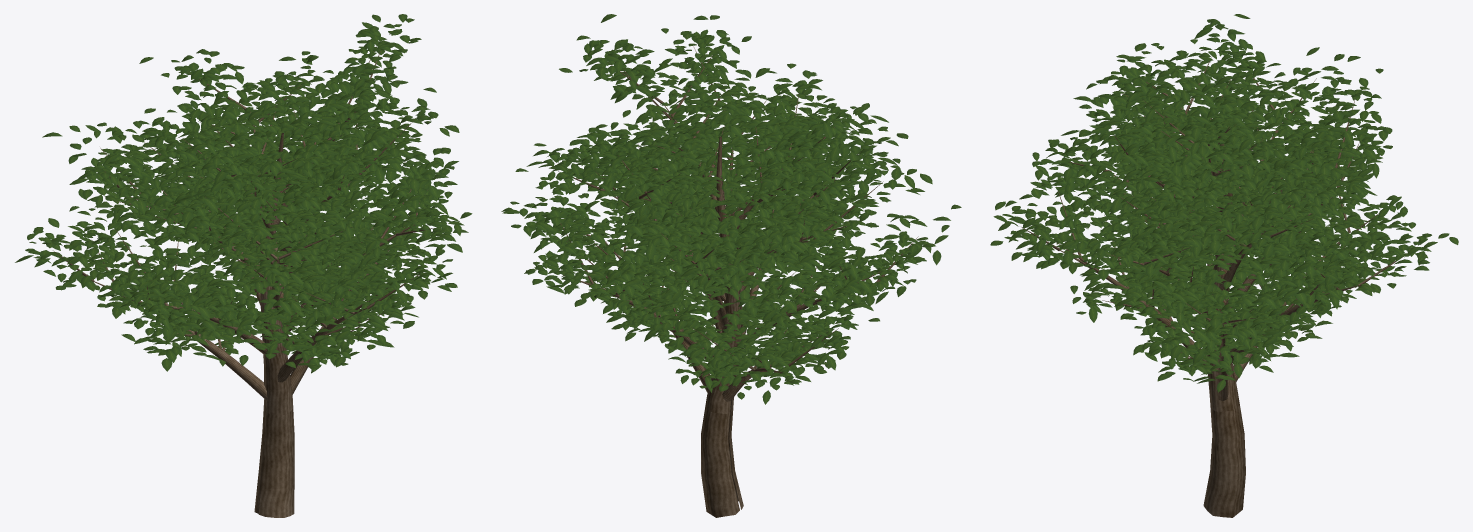
The model's file is garden-tree-1.glb.
The picture shows the model from 3 angles, left to right: view 1: azimuth 30°, elevation 25°; view 2: azimuth 150°, elevation 25°; view 3: azimuth 270°, elevation 25°; orthographic projection. The views are drawn at different scales.
Parts seen in each view (by area): view 1: Curled leaves with midrib and vein texture, Continuous tapered trunk and fine branches; view 2: Curled leaves with midrib and vein texture, Continuous tapered trunk and fine branches; view 3: Curled leaves with midrib and vein texture, Continuous tapered trunk and fine branches.
Part boxes in pixels (<box>): Curled leaves with midrib and vein texture: <box>15,14,472,373</box>; Continuous tapered trunk and fine branches: <box>53,46,434,517</box>; Curled leaves with midrib and vein texture: <box>501,14,961,404</box>; Continuous tapered trunk and fine branches: <box>557,46,918,517</box>; Curled leaves with midrib and vein texture: <box>990,14,1458,392</box>; Continuous tapered trunk and fine branches: <box>1021,56,1416,517</box>.
Bounding box in the file's own units: 7.36 × 8.1 × 7.21.
Materials: 2 (2 with a texture image).
